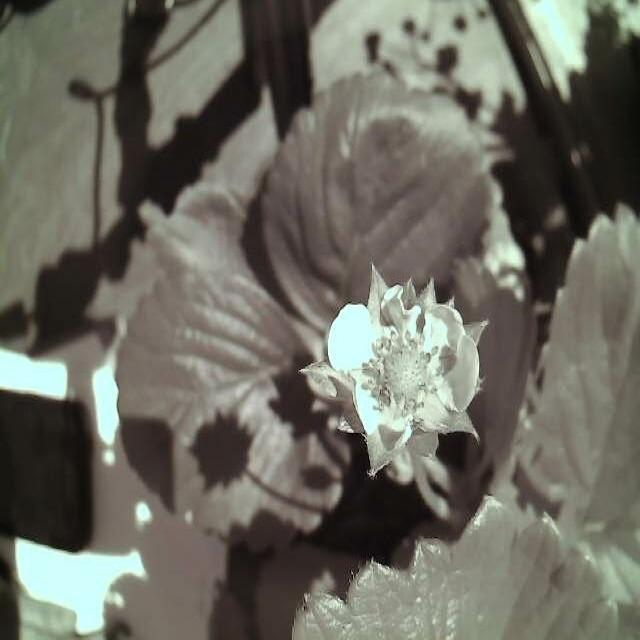flower: (316, 282, 491, 459)
